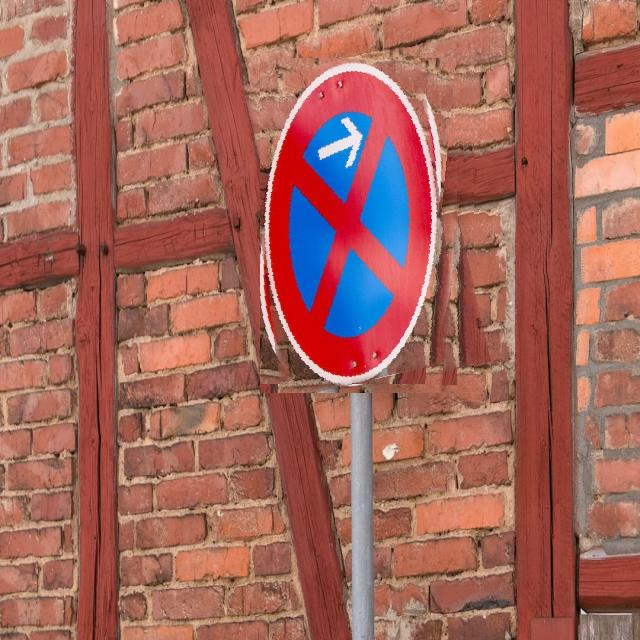no stopping: (260, 53, 474, 396)
